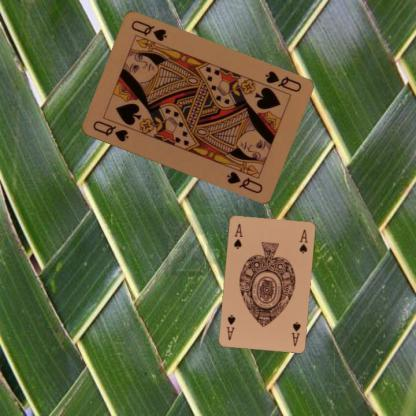As: (288, 318, 302, 348), (231, 221, 243, 250)
Qs: (90, 118, 130, 144), (262, 68, 302, 94)
